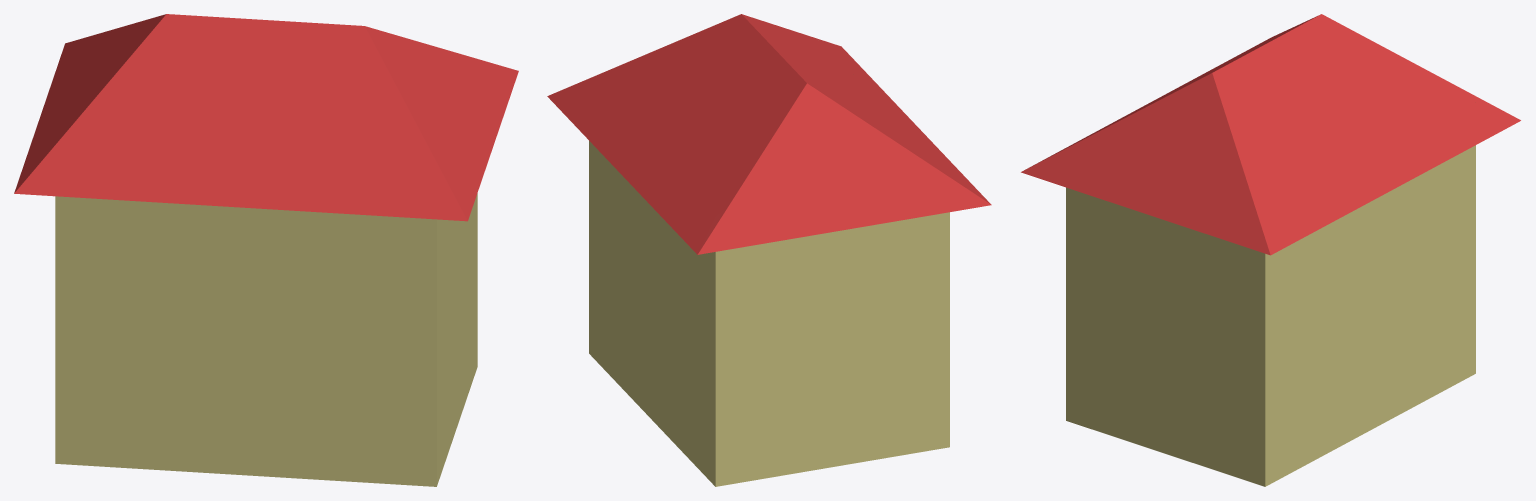
3 views of the same model, side by side, from view 1: azimuth 30°, elevation 25°; view 2: azimuth 150°, elevation 25°; view 3: azimuth 270°, elevation 25° (orthographic). The views are drawn at different scales.
Parts seen in each view (by area): view 1: group_5, group_3, group_4; view 2: group_5, group_3, group_4; view 3: group_5, group_3, group_4.
Boxes of the visible parts, left/top/right/bottom form: group_5: left=55, top=193, right=477, bottom=486; group_3: left=14, top=14, right=518, bottom=221; group_4: left=14, top=101, right=467, bottom=221; group_5: left=589, top=141, right=949, bottom=486; group_3: left=547, top=14, right=991, bottom=254; group_4: left=599, top=37, right=990, bottom=254; group_5: left=1066, top=145, right=1475, bottom=486; group_3: left=1021, top=14, right=1519, bottom=255; group_4: left=1021, top=31, right=1520, bottom=202.
Bounding box in the file's own units: 15.91 × 15.45 × 11.99.
